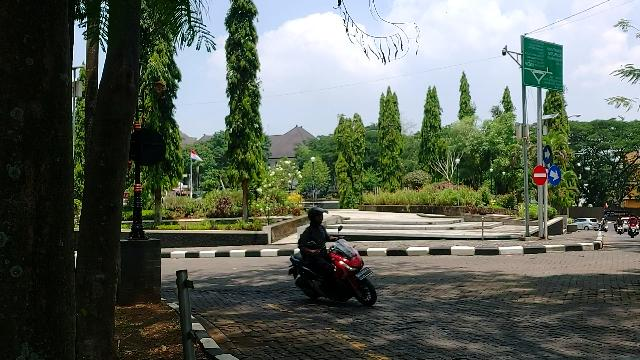helm: (309, 208, 329, 225)
motor: (289, 240, 377, 309)
